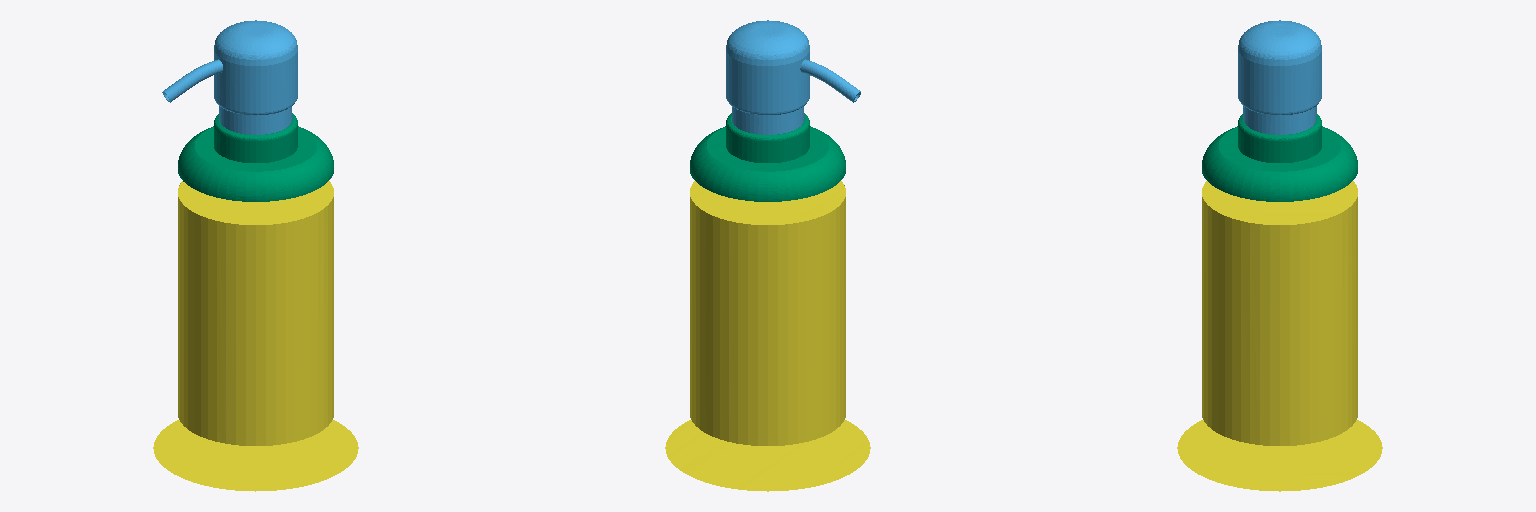
URDF robot description (partnet_0d1d667f-1098-4221-8241-25ae8246c215-2):
<?xml version="1.0" ?>
<robot name="partnet_0d1d667f-1098-4221-8241-25ae8246c215-2">
	<link name="base"/>
	<link name="link_0">
		<visual name="pressing_lid-1">
			<origin xyz="0.0028717371246910713 0 0.00630403397115821"/>
			<geometry>
				<mesh filename="textured_objs/original-10.obj"/>
			</geometry>
		</visual>
		<visual name="pressing_lid-1">
			<origin xyz="0.0028717371246910713 0 0.00630403397115821"/>
			<geometry>
				<mesh filename="textured_objs/original-15.obj"/>
			</geometry>
		</visual>
		<visual name="pressing_lid-1">
			<origin xyz="0.0028717371246910713 0 0.00630403397115821"/>
			<geometry>
				<mesh filename="textured_objs/original-16.obj"/>
			</geometry>
		</visual>
		<collision>
			<origin xyz="0.0028717371246910713 0 0.00630403397115821"/>
			<geometry>
				<mesh filename="textured_objs/original-10.obj"/>
			</geometry>
		</collision>
		<collision>
			<origin xyz="0.0028717371246910713 0 0.00630403397115821"/>
			<geometry>
				<mesh filename="textured_objs/original-15.obj"/>
			</geometry>
		</collision>
		<collision>
			<origin xyz="0.0028717371246910713 0 0.00630403397115821"/>
			<geometry>
				<mesh filename="textured_objs/original-16.obj"/>
			</geometry>
		</collision>
	</link>
	<joint name="joint_0" type="continuous">
		<origin xyz="0.0 0 0.0"/>
		<axis xyz="0 1 0"/>
		<child link="link_0"/>
		<parent link="link_0_helper"/>
	</joint>
	<link name="link_1">
		<visual name="head-3">
			<origin xyz="0.0028717371246910713 0 0.00630403397115821"/>
			<geometry>
				<mesh filename="textured_objs/original-13.obj"/>
			</geometry>
		</visual>
		<visual name="head-3">
			<origin xyz="0.0028717371246910713 0 0.00630403397115821"/>
			<geometry>
				<mesh filename="textured_objs/original-11.obj"/>
			</geometry>
		</visual>
		<collision>
			<origin xyz="0.0028717371246910713 0 0.00630403397115821"/>
			<geometry>
				<mesh filename="textured_objs/original-13.obj"/>
			</geometry>
		</collision>
		<collision>
			<origin xyz="0.0028717371246910713 0 0.00630403397115821"/>
			<geometry>
				<mesh filename="textured_objs/original-11.obj"/>
			</geometry>
		</collision>
	</link>
	<joint name="joint_1" type="continuous">
		<origin xyz="0.0 0 0.0"/>
		<axis xyz="0 1 0"/>
		<child link="link_1"/>
		<parent link="link_1_helper"/>
	</joint>
	<link name="link_2">
		<visual name="base_body-4">
			<origin xyz="0 0 0"/>
			<geometry>
				<mesh filename="textured_objs/original-4.obj"/>
			</geometry>
		</visual>
		<visual name="base_body-4">
			<origin xyz="0 0 0"/>
			<geometry>
				<mesh filename="textured_objs/original-3.obj"/>
			</geometry>
		</visual>
		<visual name="base_body-4">
			<origin xyz="0 0 0"/>
			<geometry>
				<mesh filename="textured_objs/original-2.obj"/>
			</geometry>
		</visual>
		<visual name="base_body-4">
			<origin xyz="0 0 0"/>
			<geometry>
				<mesh filename="textured_objs/original-8.obj"/>
			</geometry>
		</visual>
		<visual name="base_body-4">
			<origin xyz="0 0 0"/>
			<geometry>
				<mesh filename="textured_objs/original-6.obj"/>
			</geometry>
		</visual>
		<visual name="base_body-4">
			<origin xyz="0 0 0"/>
			<geometry>
				<mesh filename="textured_objs/original-12.obj"/>
			</geometry>
		</visual>
		<visual name="base_body-4">
			<origin xyz="0 0 0"/>
			<geometry>
				<mesh filename="textured_objs/original-7.obj"/>
			</geometry>
		</visual>
		<collision>
			<origin xyz="0 0 0"/>
			<geometry>
				<mesh filename="textured_objs/original-4.obj"/>
			</geometry>
		</collision>
		<collision>
			<origin xyz="0 0 0"/>
			<geometry>
				<mesh filename="textured_objs/original-3.obj"/>
			</geometry>
		</collision>
		<collision>
			<origin xyz="0 0 0"/>
			<geometry>
				<mesh filename="textured_objs/original-2.obj"/>
			</geometry>
		</collision>
		<collision>
			<origin xyz="0 0 0"/>
			<geometry>
				<mesh filename="textured_objs/original-8.obj"/>
			</geometry>
		</collision>
		<collision>
			<origin xyz="0 0 0"/>
			<geometry>
				<mesh filename="textured_objs/original-6.obj"/>
			</geometry>
		</collision>
		<collision>
			<origin xyz="0 0 0"/>
			<geometry>
				<mesh filename="textured_objs/original-12.obj"/>
			</geometry>
		</collision>
		<collision>
			<origin xyz="0 0 0"/>
			<geometry>
				<mesh filename="textured_objs/original-7.obj"/>
			</geometry>
		</collision>
	</link>
	<joint name="joint_2" type="fixed">
		<origin rpy="1.570796326794897 0 -1.570796326794897" xyz="0 0 0"/>
		<child link="link_2"/>
		<parent link="base"/>
	</joint>
	<link name="link_0_helper"/>
	<joint name="joint_3" type="prismatic">
		<origin xyz="0.0 0 0.0"/>
		<axis xyz="0 -1 0"/>
		<child link="link_0_helper"/>
		<parent link="link_1"/>
		<limit lower="0" upper="0.1"/>
	</joint>
	<link name="link_1_helper"/>
	<joint name="joint_4" type="prismatic">
		<origin xyz="-0.0028717371246910713 0 -0.00630403397115821"/>
		<axis xyz="0 1 0"/>
		<child link="link_1_helper"/>
		<parent link="link_2"/>
		<limit lower="0" upper="0.01"/>
	</joint>
</robot>

--- Render facts (derived) ---
Views: 3 orthographic renders of the robot side by side, from view 1: azimuth 30°, elevation 25°; view 2: azimuth 150°, elevation 25°; view 3: azimuth 270°, elevation 25°.
Robot: partnet_0d1d667f-1098-4221-8241-25ae8246c215-2 — 6 links, 5 joints (2 continuous, 2 prismatic, 1 fixed); root link base; default pose: all joints at 0.
Links seen in each view (by area): view 1: link_2, link_1, link_0; view 2: link_2, link_1, link_0; view 3: link_2, link_1, link_0.
Boxes of the visible links, box(x1,y1,x2,y2) form: link_2: box(153, 181, 358, 491); link_1: box(178, 113, 333, 201); link_0: box(162, 20, 297, 134); link_2: box(665, 181, 870, 491); link_1: box(690, 113, 845, 201); link_0: box(726, 20, 860, 134); link_2: box(1177, 181, 1382, 491); link_1: box(1202, 114, 1357, 201); link_0: box(1238, 20, 1321, 134).
Size in the robot's own frame: 0.7436 by 0.7318 by 1.65 metres.
Meshes: 12 distinct files referenced, 8 mesh visuals loaded (8 OBJ); not drawn: 4 (reference not matched to a file when rendering).
